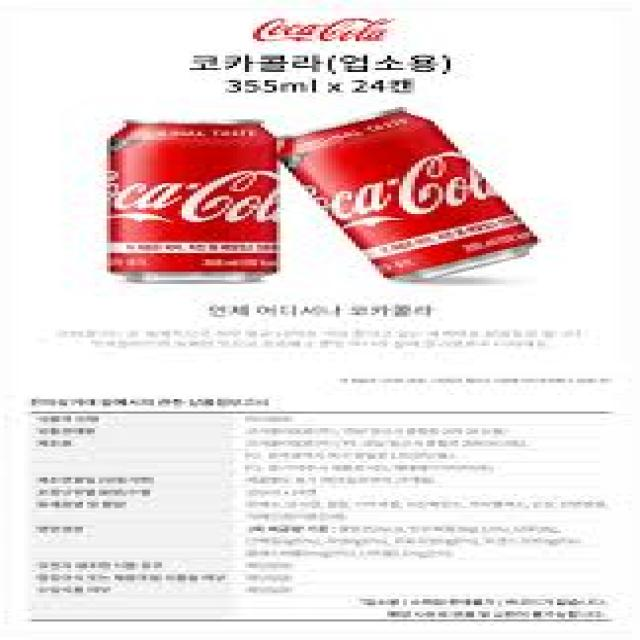Coca-Cola: (274, 98, 570, 290), (97, 110, 293, 288)
